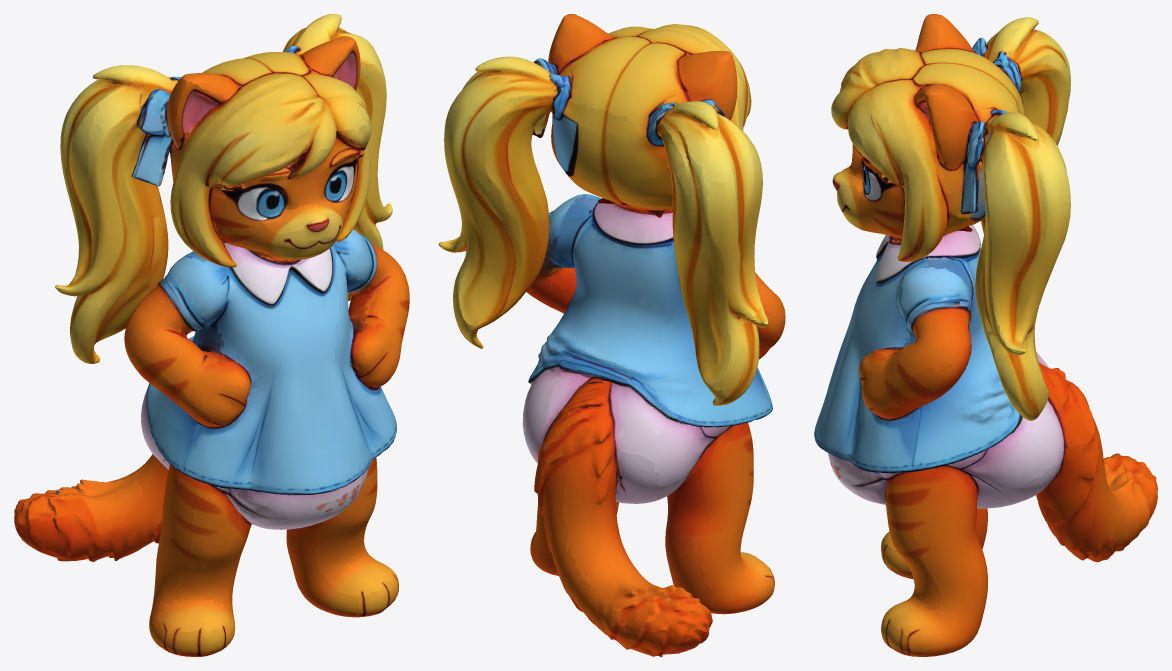
The model's file is jackydoll.glb.
3 renders of one model, left to right at view 1: azimuth 30°, elevation 25°; view 2: azimuth 150°, elevation 25°; view 3: azimuth 270°, elevation 25°, orthographic. The views are drawn at different scales.
Parts seen in each view (by area): view 1: temp_mesh.ply; view 2: temp_mesh.ply; view 3: temp_mesh.ply.
Part boxes in pixels (box(x1,y1,x2,y2)): temp_mesh.ply: box(14, 14, 409, 656); temp_mesh.ply: box(438, 14, 785, 656); temp_mesh.ply: box(814, 14, 1157, 656).
Size of the model in its own units: 1.22 by 1.97 by 1.1.
Materials: 1 (1 with a texture image).
